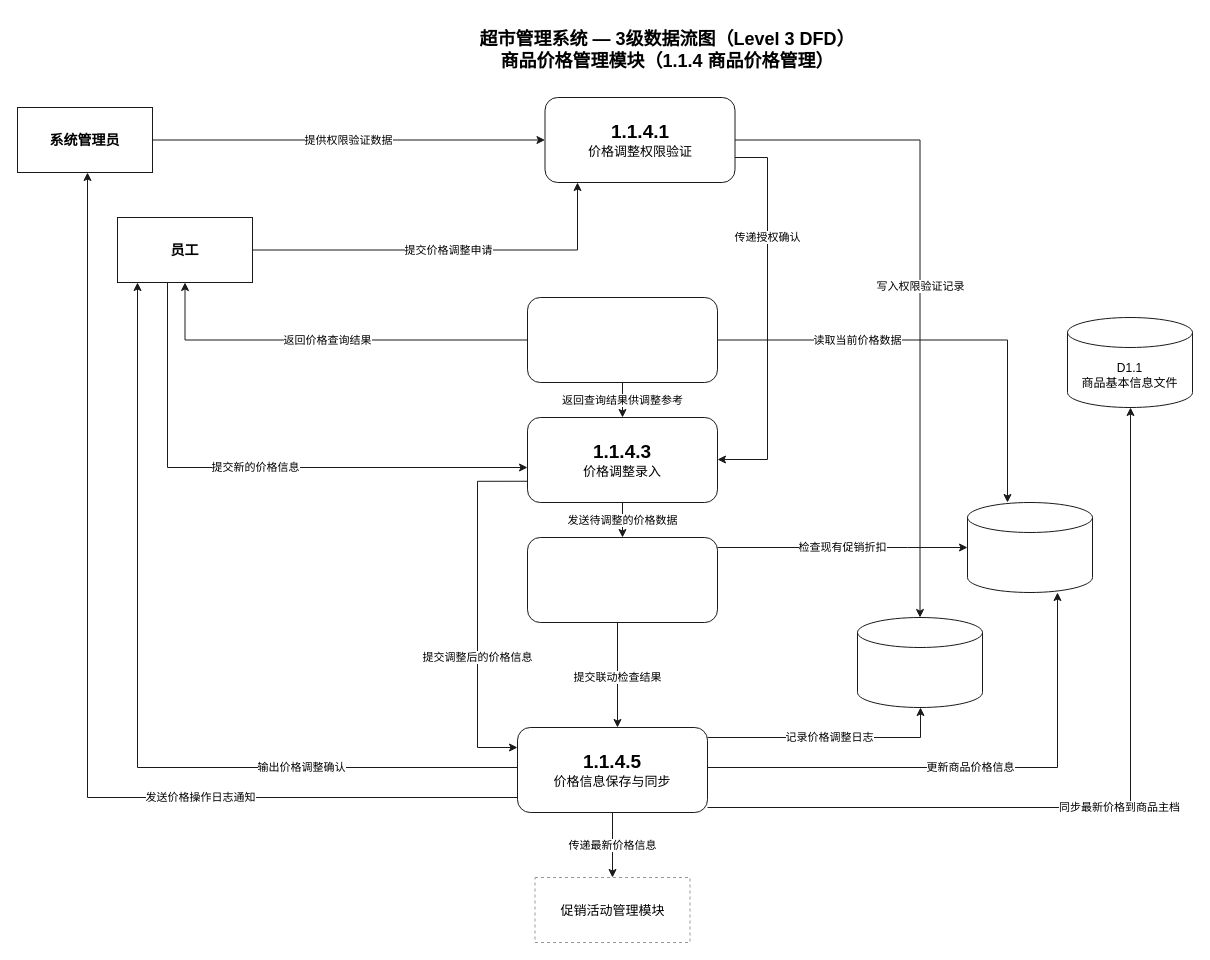
Some shapes in this 1210 by 960 pixel diagram are drawn without their labels. The shapes that lost their labels are listed below. From the top down, each one's centre as x and y in pixels, then its label:
(622,339): 1.1.4.2 商品价格查询
(1029,547): D1.3 商品价格文件
(622,579): 1.1.4.4 促销折扣联动检查
(919,662): D1.4.1 商品价格操作日志文件
